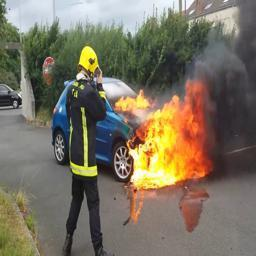fire: (127, 79, 210, 190), (114, 87, 150, 108)
